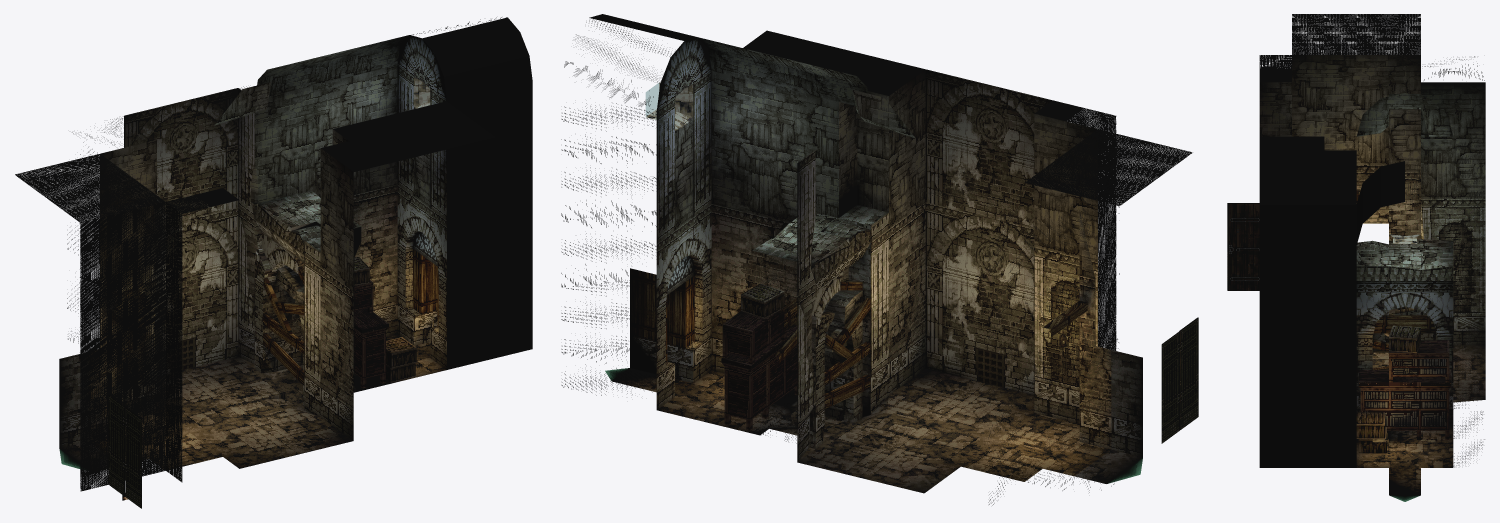
The model's file is MAP047.gltf.
3 renders of one model, left to right at view 1: azimuth 30°, elevation 25°; view 2: azimuth 150°, elevation 25°; view 3: azimuth 270°, elevation 25°, orthographic. The views are drawn at different scales.
Size of the model in its own units: 218 by 138 by 103.
Materials: 92 (92 with a texture image).
